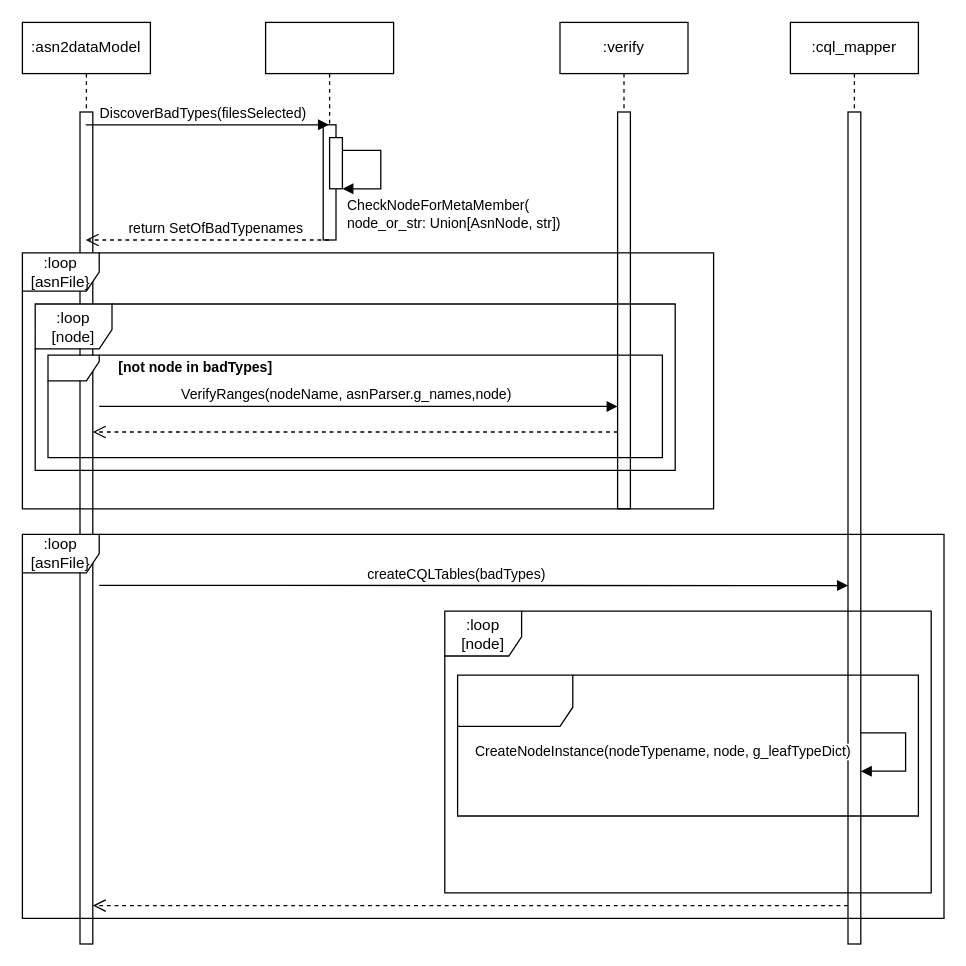
This 966x966 diagram has some shape labels left out. Here are the shapes that lost their labels. From the top down, the box of each, then its label:
(264, 21, 394, 240): :cleanupNodes
(47, 354, 662, 458): :alt
(456, 674, 918, 816): :switch [nodeInstance]
